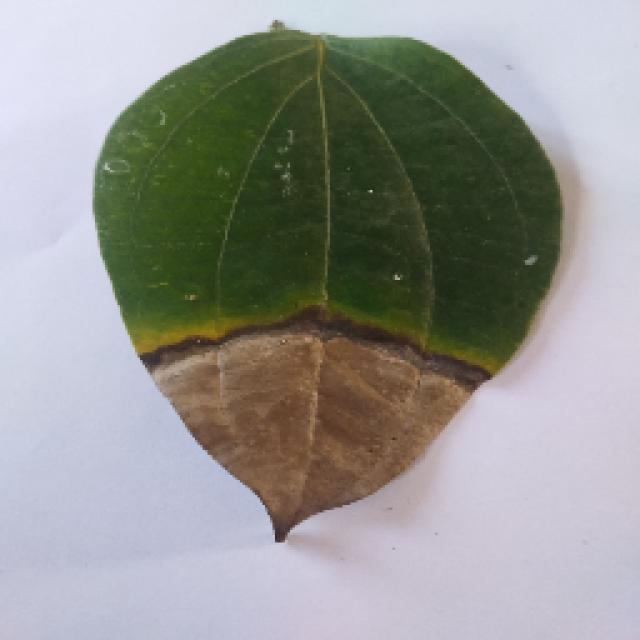footrot: (52, 30, 600, 570)
